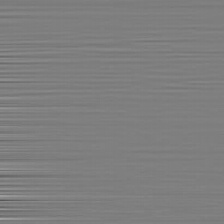cavities: (14, 80, 189, 134)
